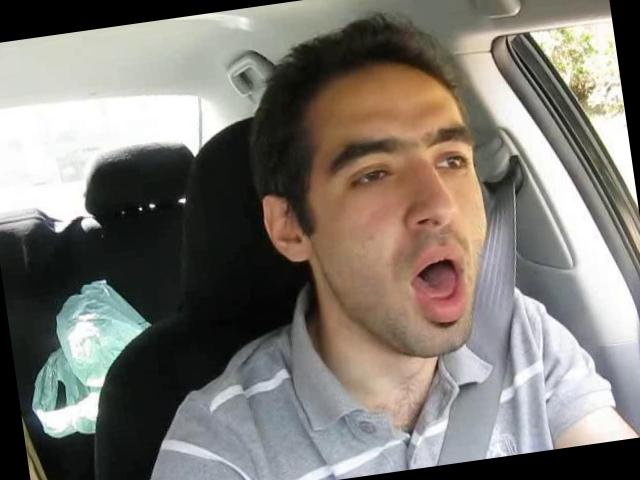eye_open: (342, 159, 399, 196), (434, 146, 474, 178)
face: (316, 98, 514, 368)
mouth_open: (400, 241, 478, 320)
